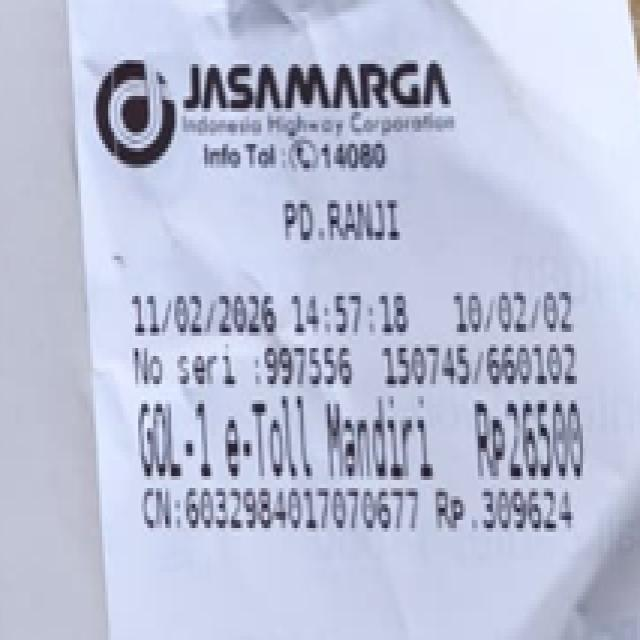date: (127, 291, 410, 339)
store: (173, 45, 458, 146)
total: (466, 395, 587, 482)
